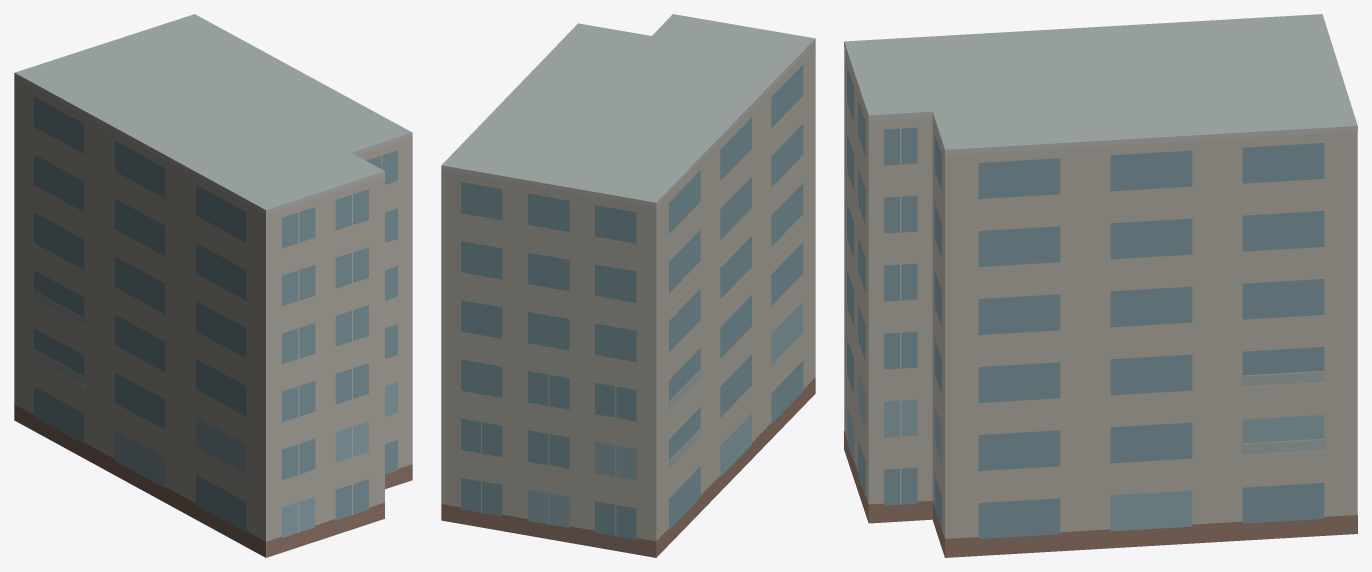
Rendered from survey-upis-32746796.glb.
3 renders of one model, left to right at view 1: azimuth 30°, elevation 25°; view 2: azimuth 150°, elevation 25°; view 3: azimuth 270°, elevation 25°, orthographic. The views are drawn at different scales.
Parts seen in each view (by area): view 1: survey-upis-32746796.tmp; view 2: survey-upis-32746796.tmp; view 3: survey-upis-32746796.tmp.
Part boxes in pixels (x1,y1,x2,y2): survey-upis-32746796.tmp: [14, 14, 412, 557]; survey-upis-32746796.tmp: [441, 14, 815, 557]; survey-upis-32746796.tmp: [844, 14, 1357, 557].
Bounding box in the file's own units: 13.37 × 18.7 × 21.35.
